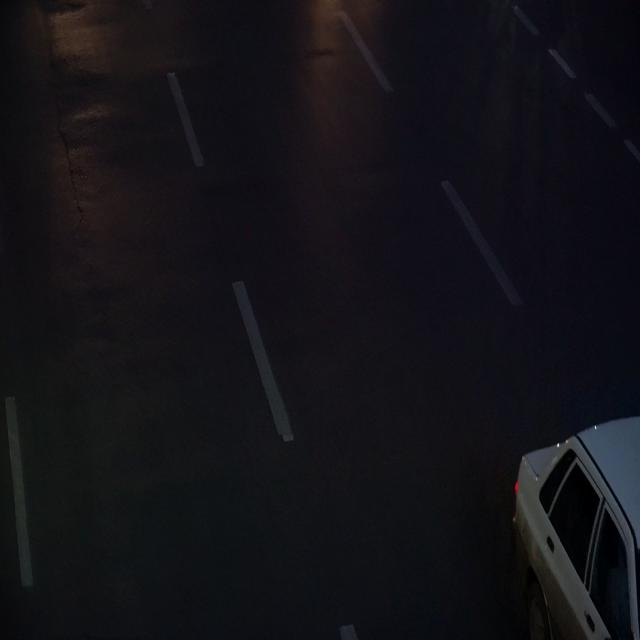car: (512, 414, 640, 640)
